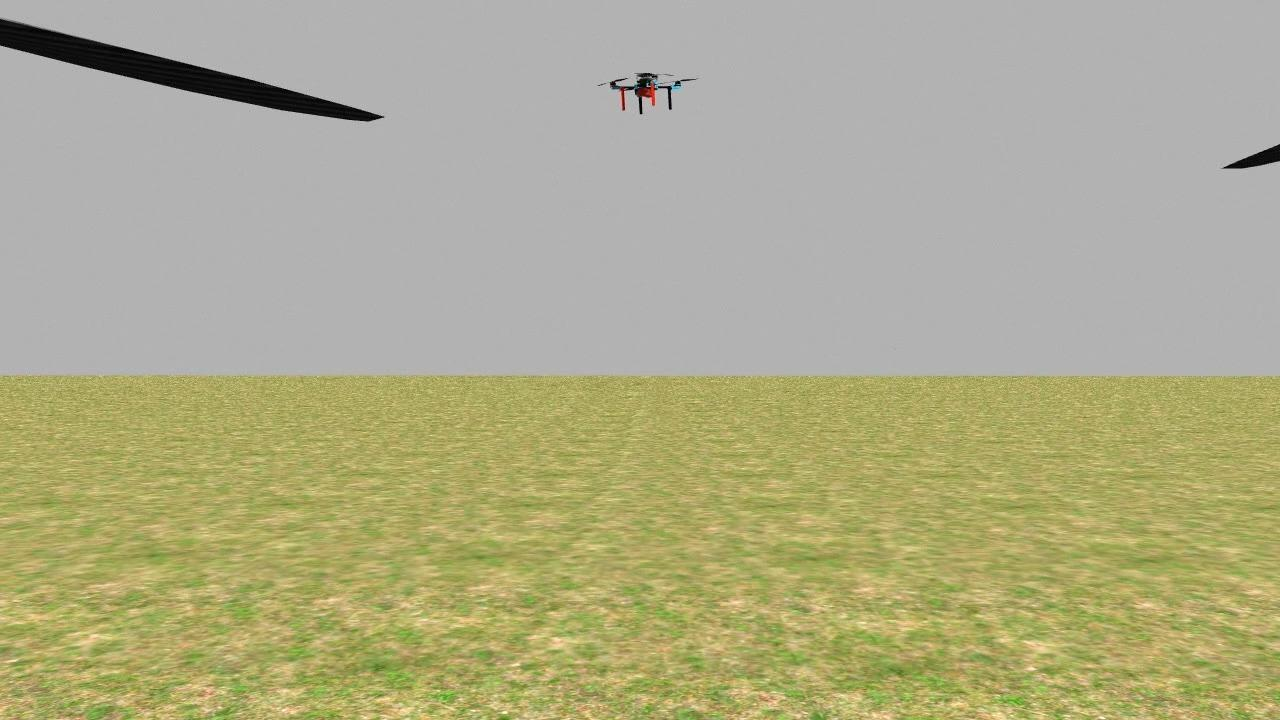UAV: (592, 62, 699, 131)
